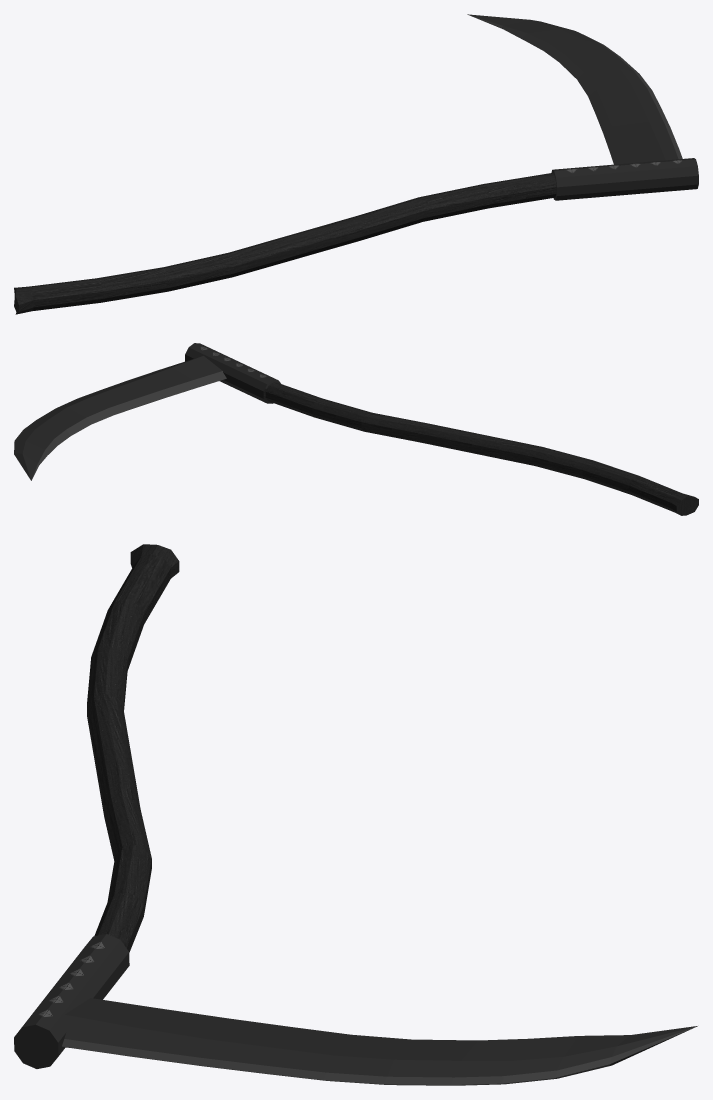
File: WorldItem_Scythe.fbx
3 views of the same model, one above another, from view 1: azimuth 30°, elevation 25°; view 2: azimuth 150°, elevation 25°; view 3: azimuth 270°, elevation 25° (orthographic). The views are drawn at different scales.
Visible parts, largest first — view 1: ZomboidScythe; view 2: ZomboidScythe; view 3: ZomboidScythe.
Part boxes in pixels (<box>): ZomboidScythe: <box>14,14,698,314</box>; ZomboidScythe: <box>14,343,698,515</box>; ZomboidScythe: <box>14,544,697,1085</box>.
Bounding box in the file's own units: 1.11 × 0.0441 × 0.6033.
